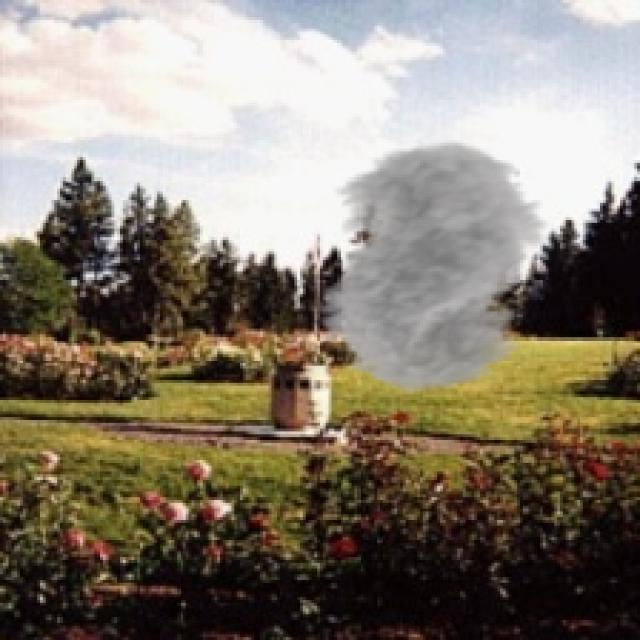Smoke: (288, 140, 568, 394)
